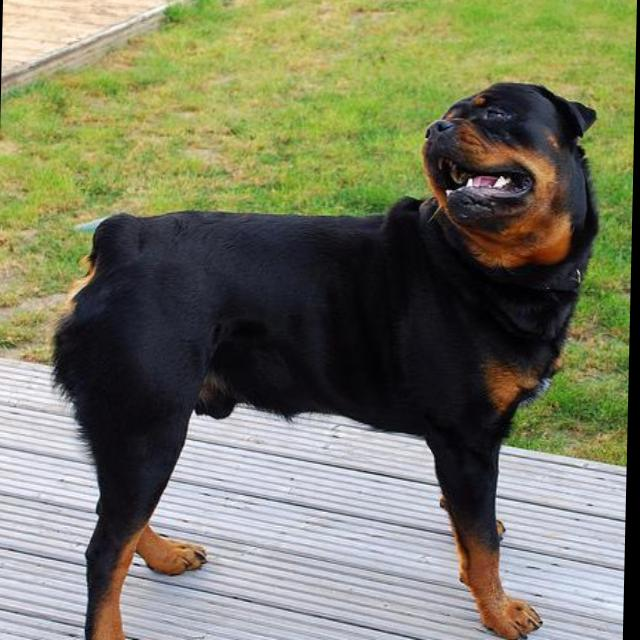rottweiler: (48, 80, 607, 640)
